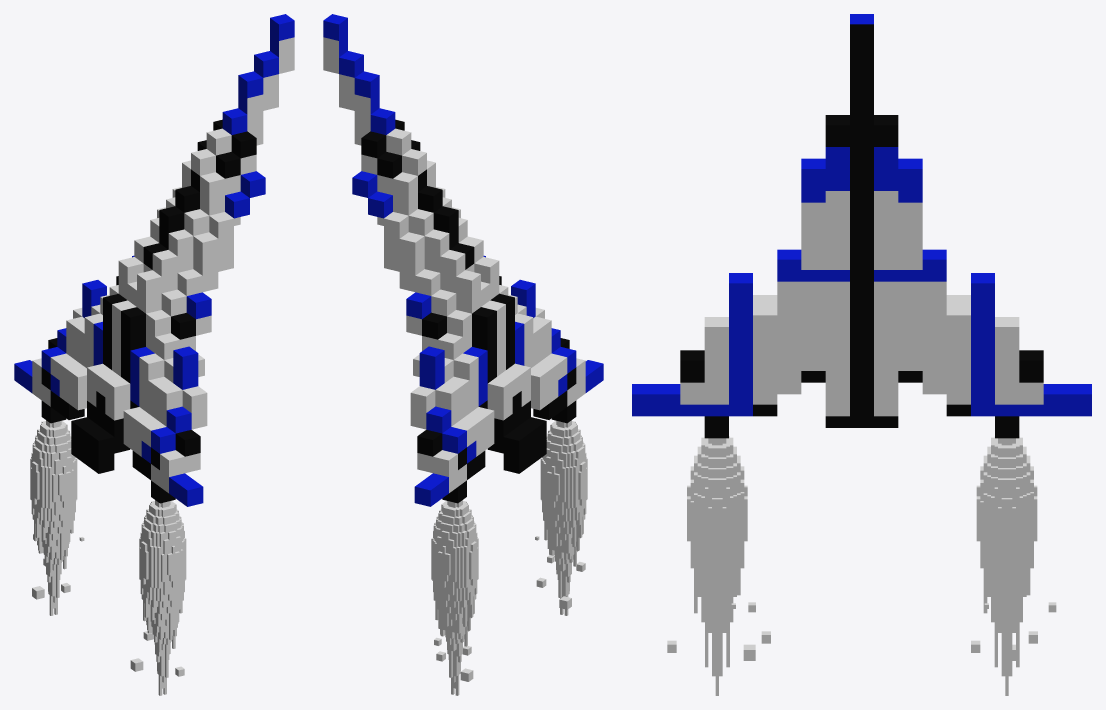
Rendered from Nave1.fbx.
3 views of the same model, side by side, from view 1: azimuth 30°, elevation 25°; view 2: azimuth 150°, elevation 25°; view 3: azimuth 270°, elevation 25° (orthographic). The views are drawn at different scales.
Parts seen in each view (by area): view 1: model, model.006, model.005; view 2: model, model.005, model.006; view 3: model, model.005, model.006.
Part boxes in pixels (<box>): model: <box>14,14,294,506</box>; model.006: <box>139,500,186,695</box>; model.005: <box>30,420,77,615</box>; model: <box>323,14,603,506</box>; model.005: <box>431,500,478,695</box>; model.006: <box>540,420,587,615</box>; model: <box>632,14,1091,438</box>; model.005: <box>976,436,1037,695</box>; model.006: <box>687,436,747,695</box>.
Bounding box in the file's own units: 456 × 666 × 1258.
